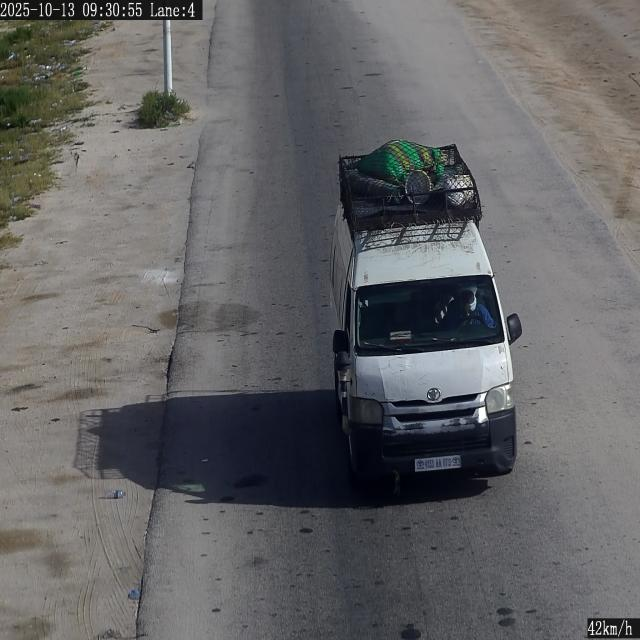BUS: (415, 455, 461, 472)
